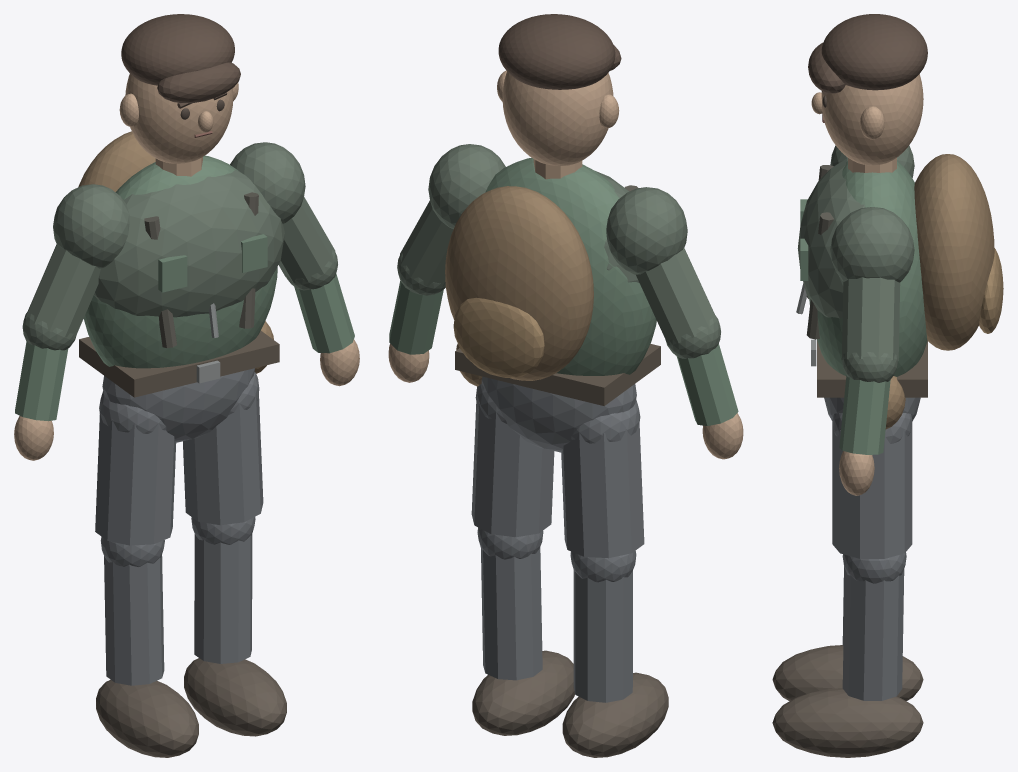
Rendered from hero.glb.
The picture shows the model from 3 angles, left to right: view 1: azimuth 30°, elevation 25°; view 2: azimuth 150°, elevation 25°; view 3: azimuth 270°, elevation 25°; orthographic projection. The views are drawn at different scales.
Visible parts, largest first — view 1: Jacket_Chest, Torso_Shirt, Thigh_L, Thigh_R, LowerLeg_L, LowerLeg_R, Boot_R, Boot_L, Hair_Cap, Head, Pelvis, Shoulder_L (+19 smaller); view 2: Backpack_Main, Torso_Shirt, Thigh_L, Thigh_R, LowerLeg_R, LowerLeg_L, Head, Hair_Cap, Boot_L, Boot_R, Backpack_Pocket, Shoulder_L (+14 smaller); view 3: Backpack_Main, Boot_R, Thigh_R, LowerLeg_R, Torso_Shirt, Hair_Cap, Head, Shoulder_R, Jacket_Chest, UpperArm_R, Boot_L, Forearm_R (+13 smaller).
Part boxes in pixels (bbox=[...]): Jacket_Chest: bbox=[94, 169, 284, 317]; Torso_Shirt: bbox=[83, 155, 277, 368]; Thigh_L: bbox=[95, 410, 176, 545]; Thigh_R: bbox=[183, 393, 263, 525]; LowerLeg_L: bbox=[104, 555, 164, 685]; LowerLeg_R: bbox=[194, 534, 252, 663]; Boot_R: bbox=[184, 658, 286, 736]; Boot_L: bbox=[96, 679, 198, 757]; Hair_Cap: bbox=[121, 14, 234, 85]; Head: bbox=[125, 74, 233, 163]; Pelvis: bbox=[102, 368, 254, 442]; Shoulder_L: bbox=[53, 184, 129, 268]; Backpack_Main: bbox=[445, 186, 593, 380]; Torso_Shirt: bbox=[485, 157, 656, 375]; Thigh_L: bbox=[561, 420, 644, 558]; Thigh_R: bbox=[471, 402, 554, 537]; LowerLeg_R: bbox=[481, 547, 542, 680]; LowerLeg_L: bbox=[573, 570, 632, 702]; Head: bbox=[502, 71, 613, 165]; Hair_Cap: bbox=[498, 14, 615, 89]; Boot_L: bbox=[562, 672, 668, 757]; Boot_R: bbox=[472, 650, 574, 735]; Backpack_Pocket: bbox=[453, 297, 544, 377]; Shoulder_L: bbox=[606, 187, 687, 274]; Backpack_Main: bbox=[914, 154, 994, 350]; Boot_R: bbox=[772, 688, 923, 757]; Thigh_R: bbox=[832, 421, 912, 558]; LowerLeg_R: bbox=[842, 568, 904, 700]; Torso_Shirt: bbox=[809, 161, 927, 376]; Hair_Cap: bbox=[821, 14, 927, 90]; Head: bbox=[821, 74, 923, 165]; Shoulder_R: bbox=[830, 207, 914, 282]; Jacket_Chest: bbox=[797, 158, 910, 318]; UpperArm_R: bbox=[841, 277, 900, 360]; Boot_L: bbox=[772, 645, 923, 700]; Forearm_R: bbox=[839, 375, 890, 454].
Bounding box in the file's own units: 0.894 × 1.76 × 0.52.
